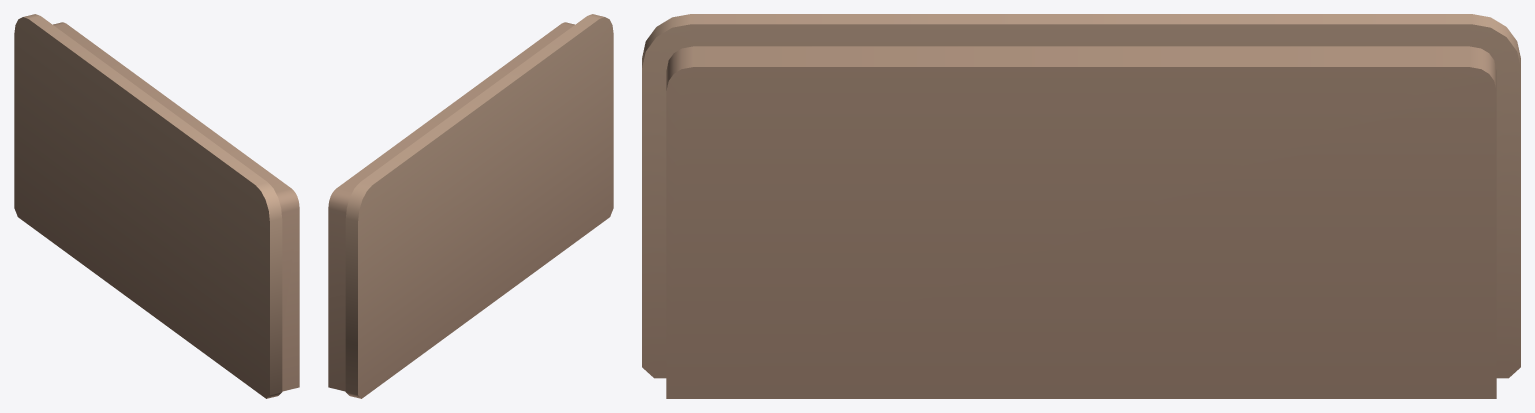
File: bed-backboard-basic.glb
The picture shows the model from 3 angles, left to right: view 1: azimuth 30°, elevation 25°; view 2: azimuth 150°, elevation 25°; view 3: azimuth 270°, elevation 25°; orthographic projection. The views are drawn at different scales.
Parts seen in each view (by area): view 1: bed-backboard-basic; view 2: bed-backboard-basic; view 3: bed-backboard-basic.
Part boxes in pixels (<box>): bed-backboard-basic: <box>14,14,299,398</box>; bed-backboard-basic: <box>328,14,613,398</box>; bed-backboard-basic: <box>642,14,1520,398</box>.
Size of the model in its own units: 0.15 by 0.8 by 1.8.
